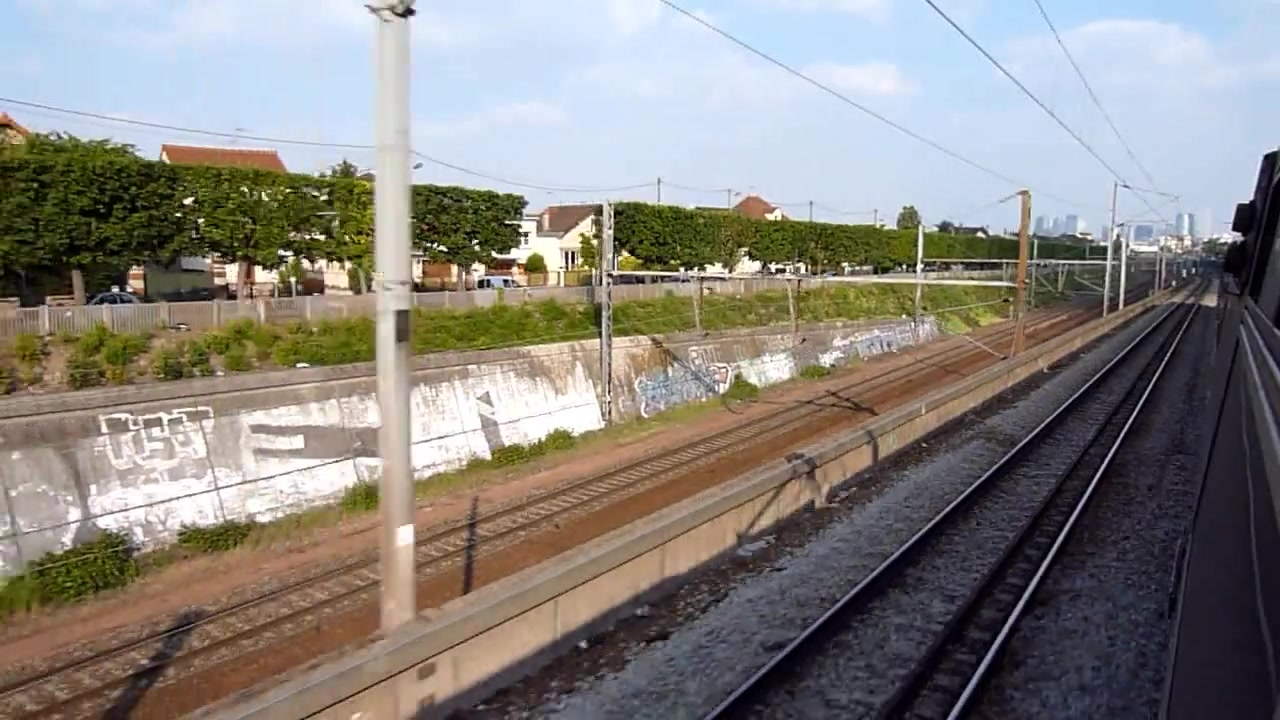train: (1174, 146, 1280, 720)
